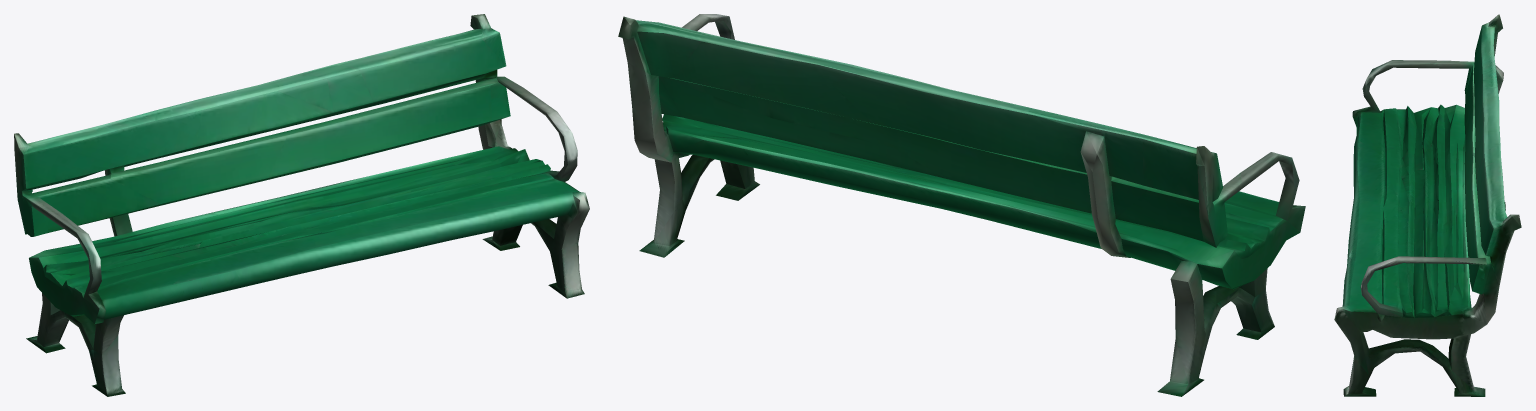
The model's file is stationBench.glb.
3 views of the same model, side by side, from view 1: azimuth 30°, elevation 25°; view 2: azimuth 150°, elevation 25°; view 3: azimuth 270°, elevation 25° (orthographic). The views are drawn at different scales.
Visible parts, largest first — view 1: model; view 2: model; view 3: model.
Boxes of the visible parts, bbox=[...] form: model: bbox=[14, 14, 589, 396]; model: bbox=[618, 14, 1305, 396]; model: bbox=[1334, 14, 1521, 396].
Size of the model in its own units: 1.9 by 0.7888 by 0.7359.
Materials: 1 (1 with a texture image).
